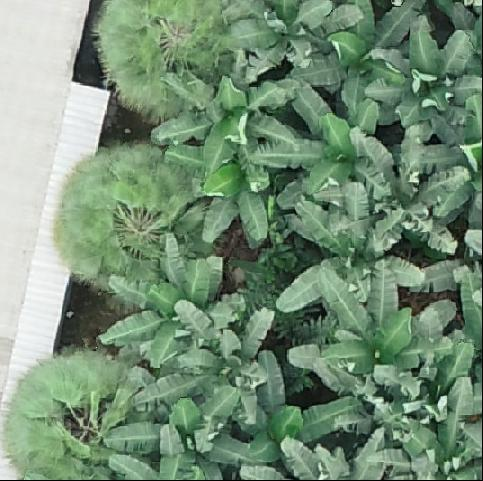Banana-plant: (287, 264, 457, 395), (268, 184, 424, 307), (113, 234, 239, 359), (132, 311, 276, 412), (154, 67, 292, 170), (247, 345, 363, 465), (358, 133, 469, 255), (252, 77, 378, 184), (370, 19, 483, 134), (165, 139, 287, 243), (108, 399, 246, 481), (232, 0, 362, 81), (384, 379, 483, 481), (336, 0, 421, 101)
